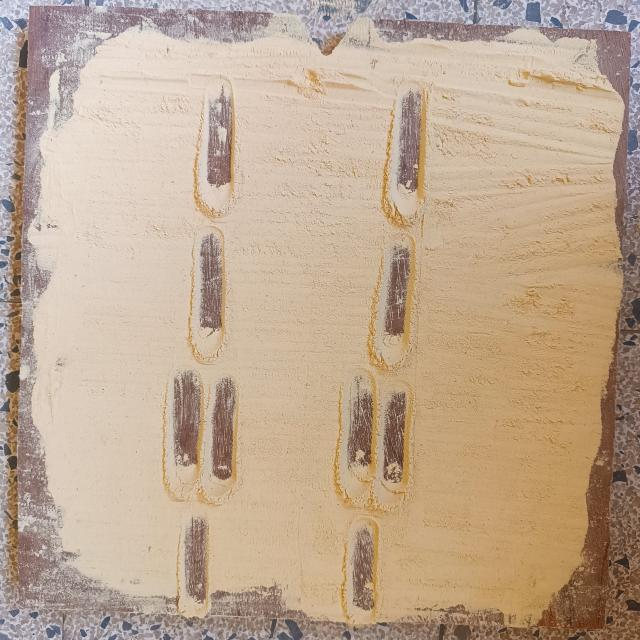double: (332, 364, 415, 516), (158, 366, 244, 504)
single: (381, 76, 432, 224), (192, 76, 241, 216), (369, 232, 417, 372), (188, 223, 232, 369), (342, 514, 385, 626), (177, 510, 216, 621)
